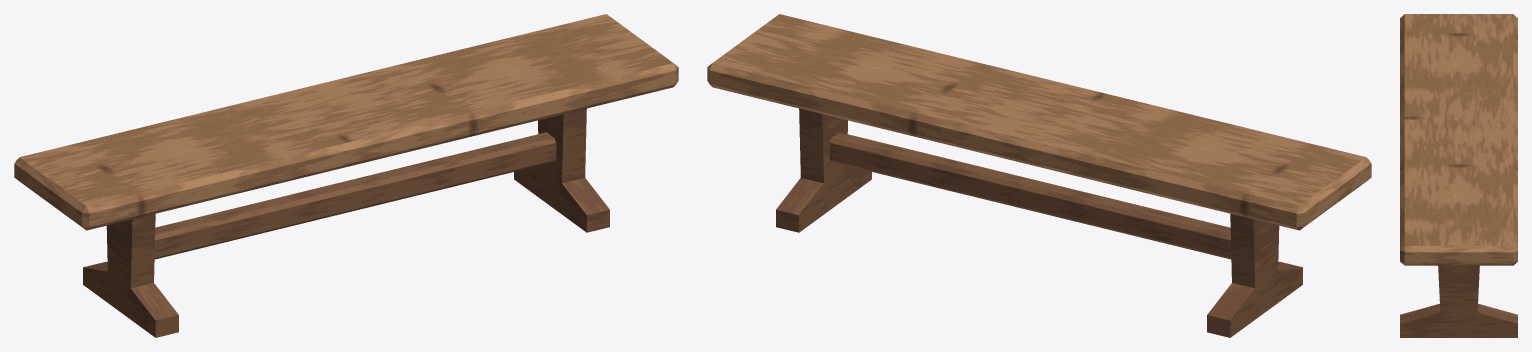
Rendered from guild_backless_bench.glb.
3 views of the same model, side by side, from view 1: azimuth 30°, elevation 25°; view 2: azimuth 150°, elevation 25°; view 3: azimuth 270°, elevation 25° (orthographic). The views are drawn at different scales.
Parts seen in each view (by area): view 1: guild_backless_bench_seat, guild_backless_bench_stretcher, guild_backless_bench_trestle_legs; view 2: guild_backless_bench_seat, guild_backless_bench_stretcher, guild_backless_bench_trestle_legs; view 3: guild_backless_bench_seat, guild_backless_bench_trestle_legs.
Part boxes in pixels (x1,y1,x2,y2): guild_backless_bench_seat: [14, 14, 678, 230]; guild_backless_bench_stretcher: [154, 132, 556, 259]; guild_backless_bench_trestle_legs: [83, 108, 609, 337]; guild_backless_bench_seat: [707, 14, 1371, 230]; guild_backless_bench_stretcher: [829, 132, 1231, 259]; guild_backless_bench_trestle_legs: [776, 108, 1302, 337]; guild_backless_bench_seat: [1400, 14, 1517, 265]; guild_backless_bench_trestle_legs: [1400, 265, 1517, 337].
Size of what is drawn, in the model's own units: 1.8 by 0.42 by 0.38.
Materials: 2 (2 with a texture image).
